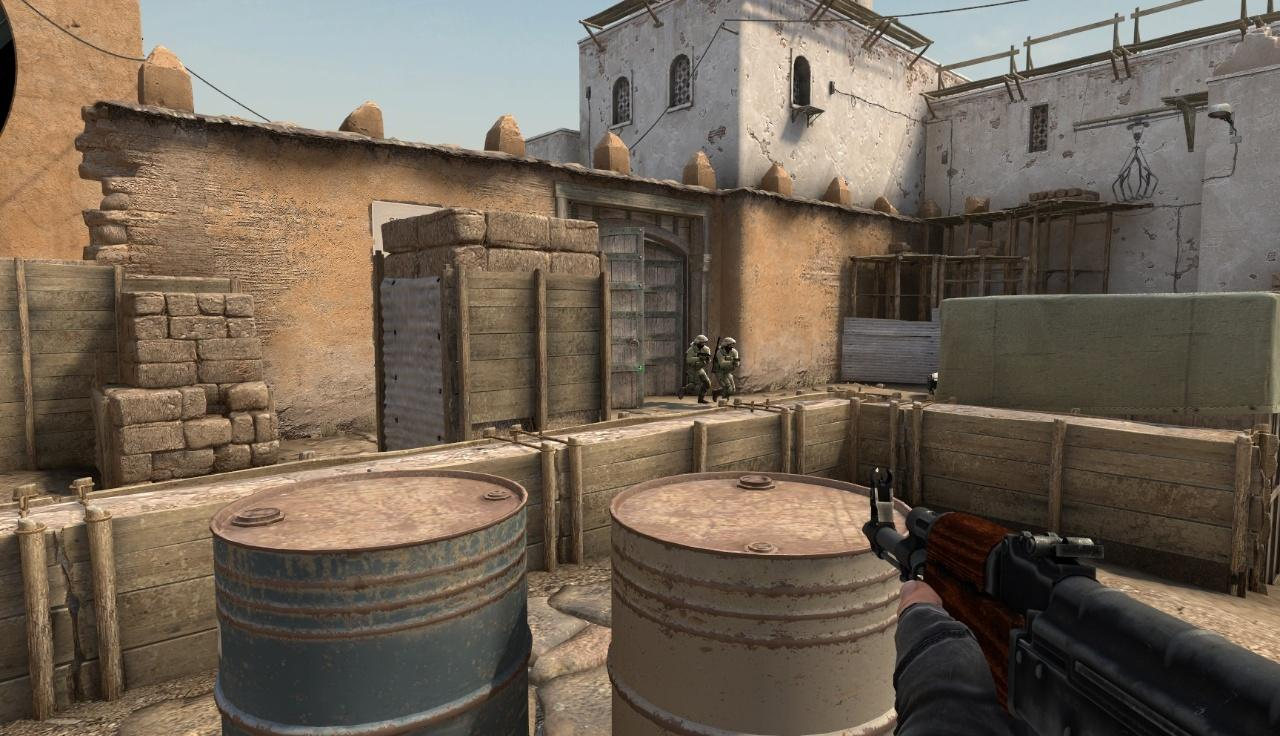ct: (685, 335, 711, 403), (713, 337, 738, 402)
cthead: (721, 337, 735, 352), (696, 335, 708, 348)
rifle: (862, 464, 1280, 736)
